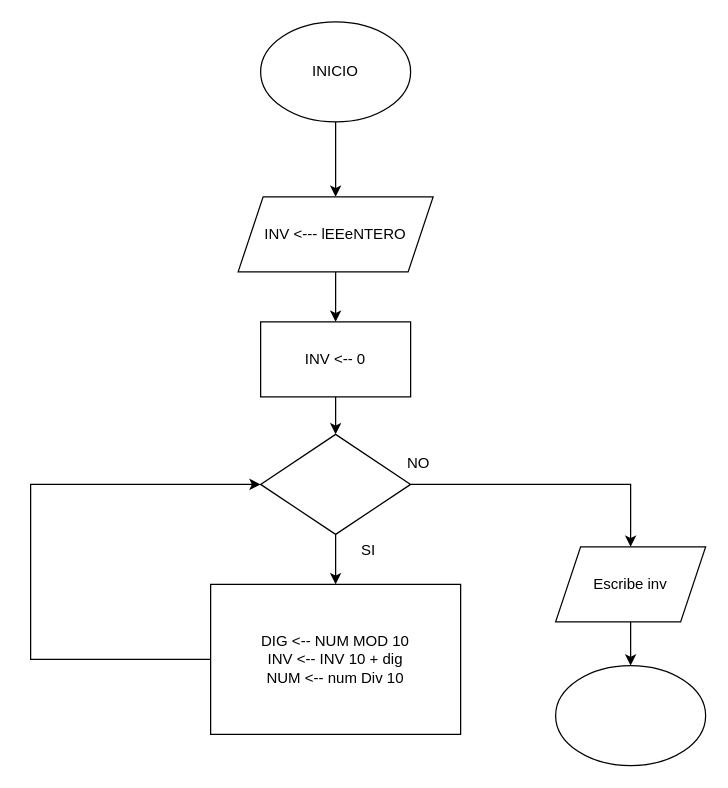
The diagram is 728 pixels wide and 788 high, and some of its shapes have lost their labels. Here are the shapes that lost their labels. From the top down, the centre of each, then its label:
At pixel 335 483: "NUM>0".
At pixel 630 715: "FIN".
